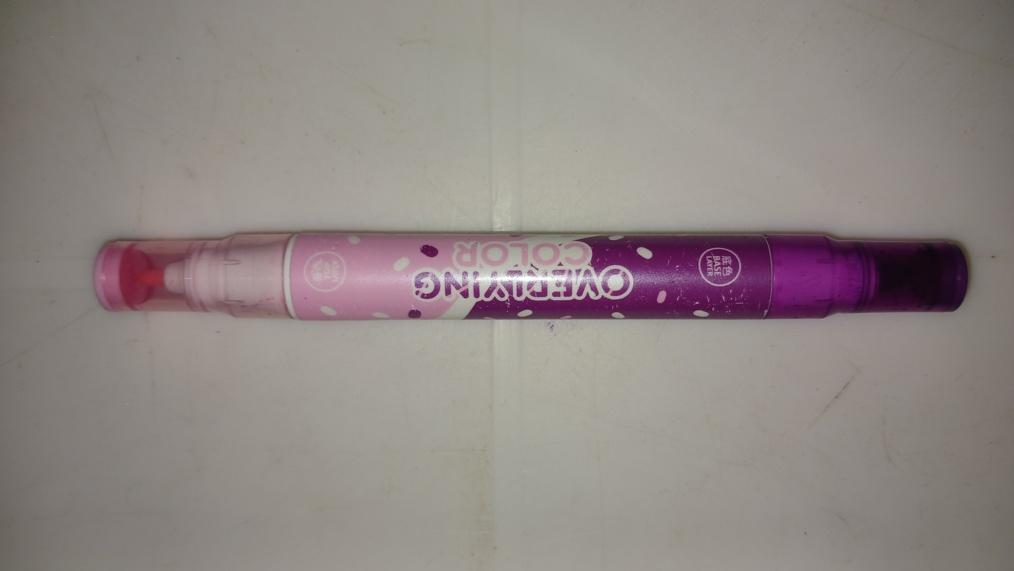Highlighter: (91, 232, 970, 314)
